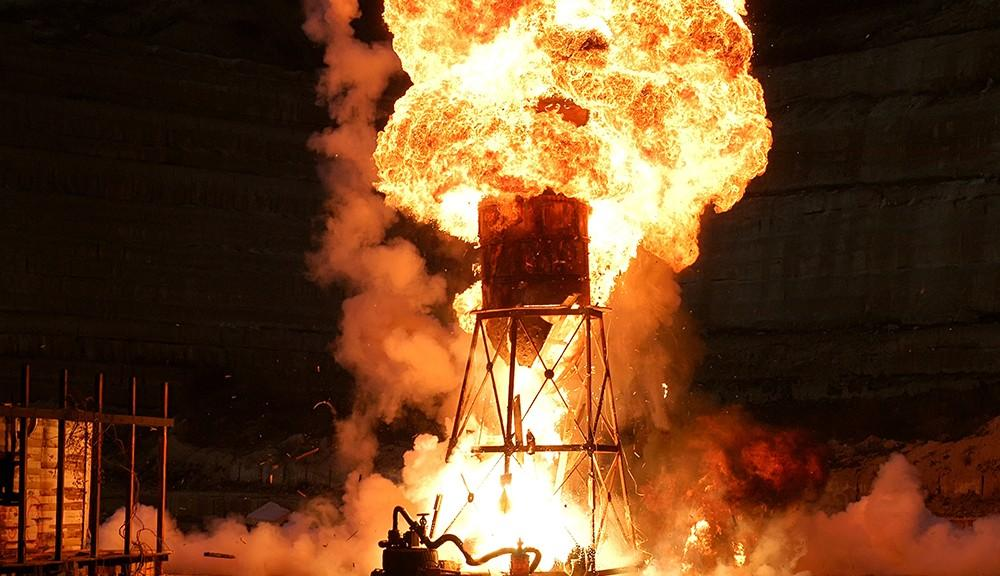fire: (358, 0, 778, 567)
